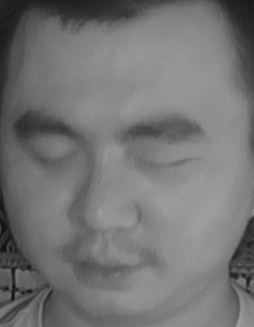blink: (29, 137, 78, 172), (139, 148, 193, 179)
mouth: (64, 236, 149, 294)
